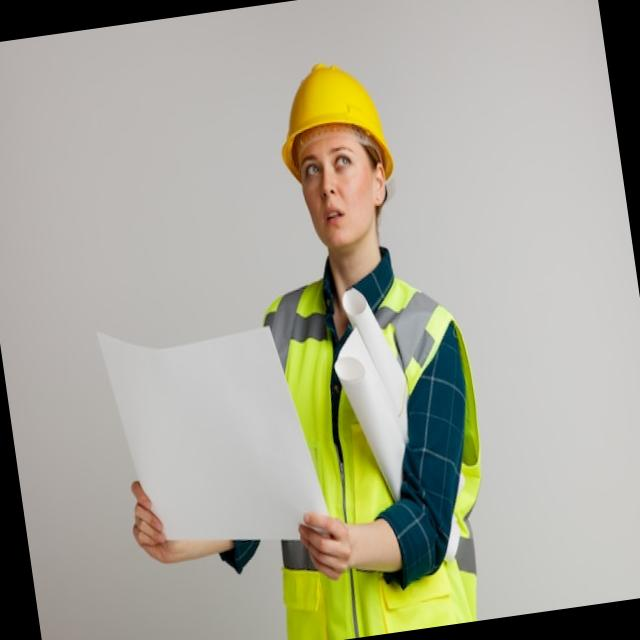helmet: (257, 41, 402, 170)
no-goggles: (284, 122, 390, 196)
vest: (264, 267, 504, 640)
